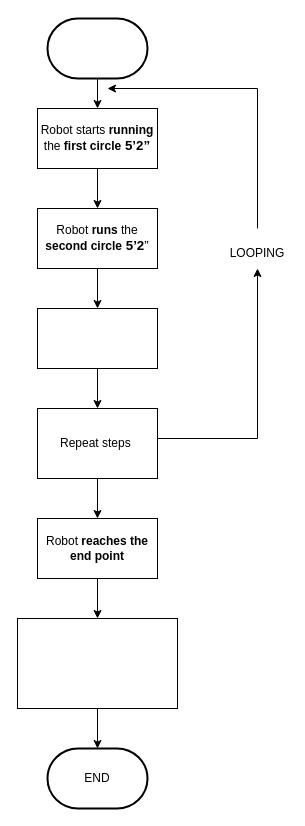
This 305x826 diagram has some shape labels left out. Here are the shapes that lost their labels. From the top down, the centre of each, then its label:
[97,48]: START
[97,338]: R obot reaches the end /starting
[97,663]: Robot says: “ I am the winner” and f lash multicolored lights for 5 seconds.
